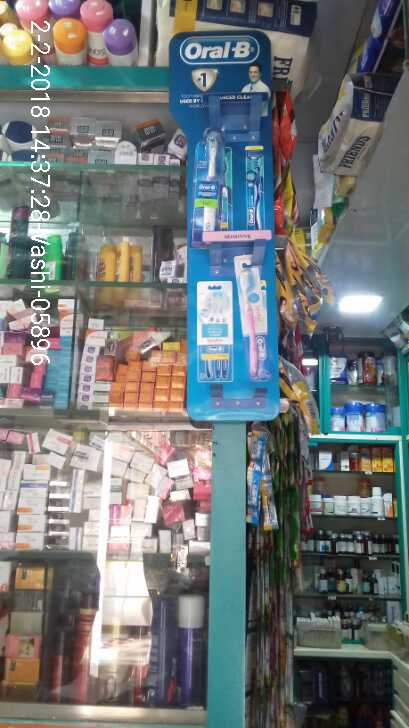oralb: (236, 259, 271, 377), (196, 128, 228, 230)
